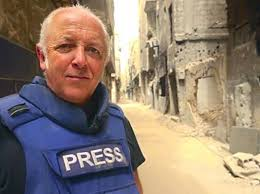middle_eastern_male: (47, 13, 109, 99)
